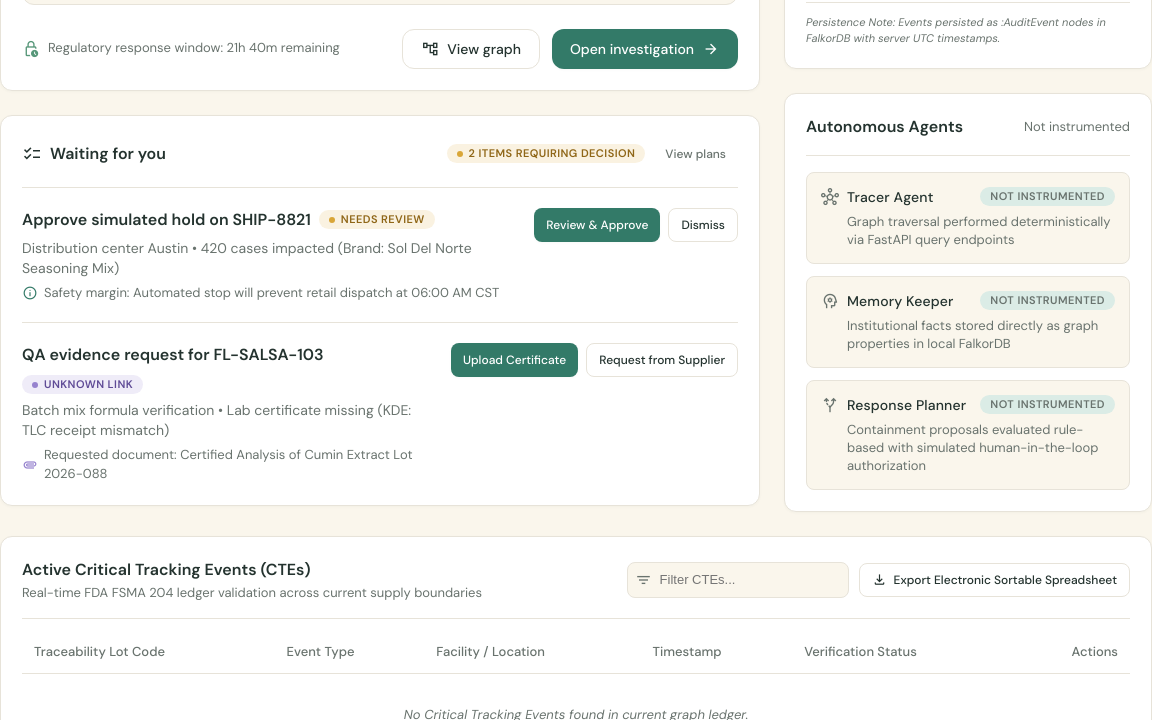
OverviewDashboard Component › opens Upload Certificate modal and completes file registration
(page scrolled)
Click the button "Upload Certificate".
click(515, 360)  # box [451,343,578,377]
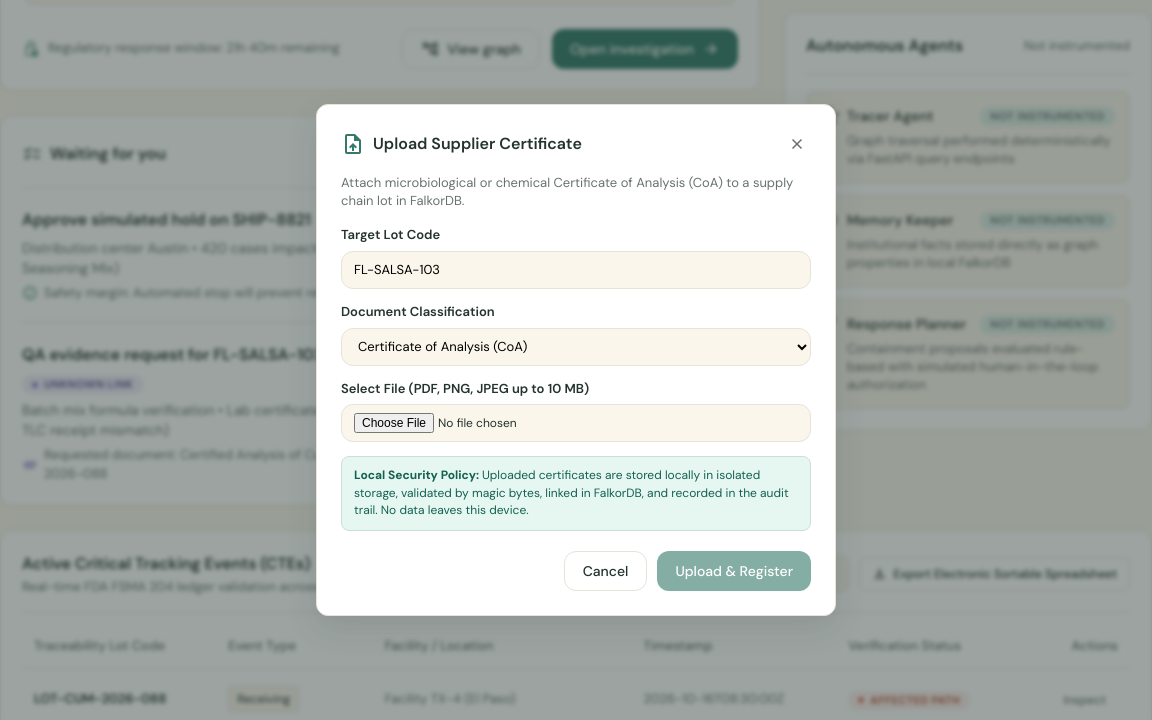
Result: the dialog is shown
Result: the heading "Upload Supplier Certificate" is shown at [373,132,582,156]
